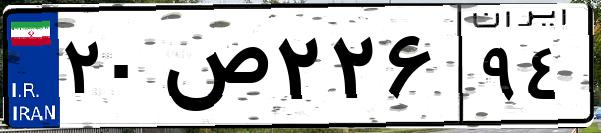0: (110, 28, 158, 98)
2: (270, 28, 330, 110), (330, 28, 385, 110), (57, 26, 110, 100)
4: (525, 38, 570, 115)
6: (385, 28, 445, 110)
9: (475, 38, 525, 113)
ص: (158, 20, 270, 120)
